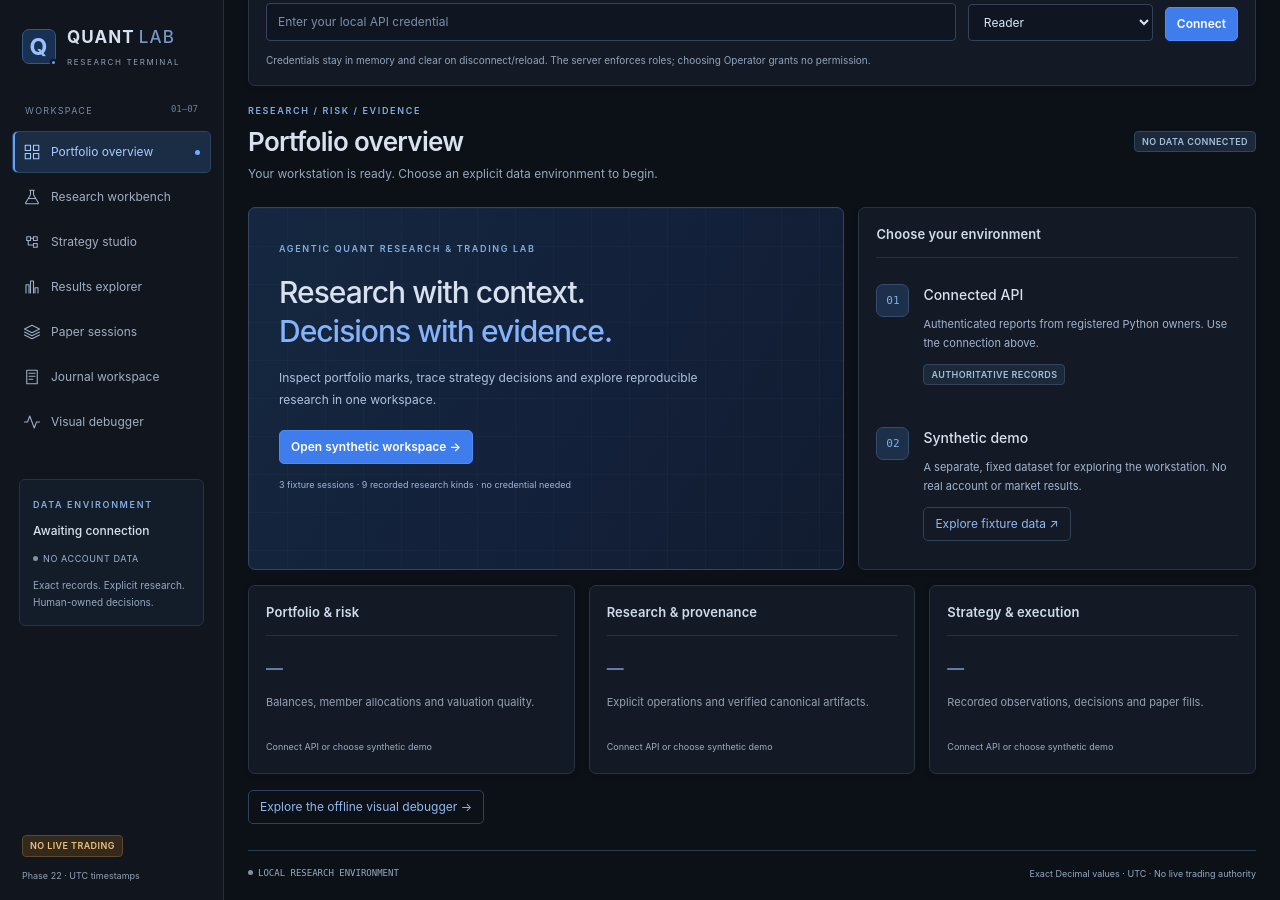
Test: authentication and accessible navigation › allows the offline demo without a credential and labels it
(page scrolled)
Click the button "Explore the offline visual debugger →": (366, 807) top-left (248, 790), bottom-right (484, 824)
(page scrolled)
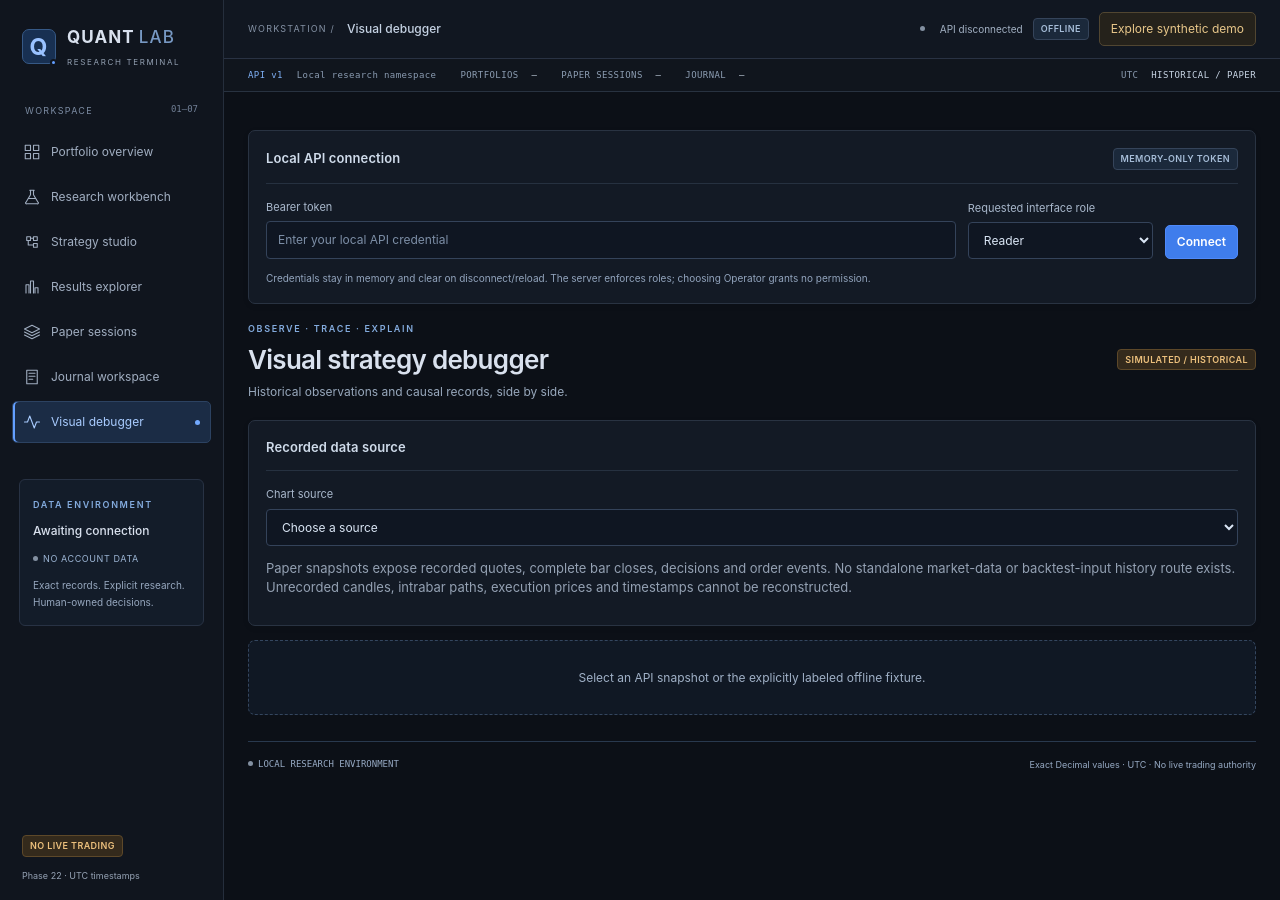
Select "OFFLINE DEMO · deterministic test-service fixture" in the dropdown labelled "Chart source": (752, 527) top-left (266, 509), bottom-right (1238, 546)
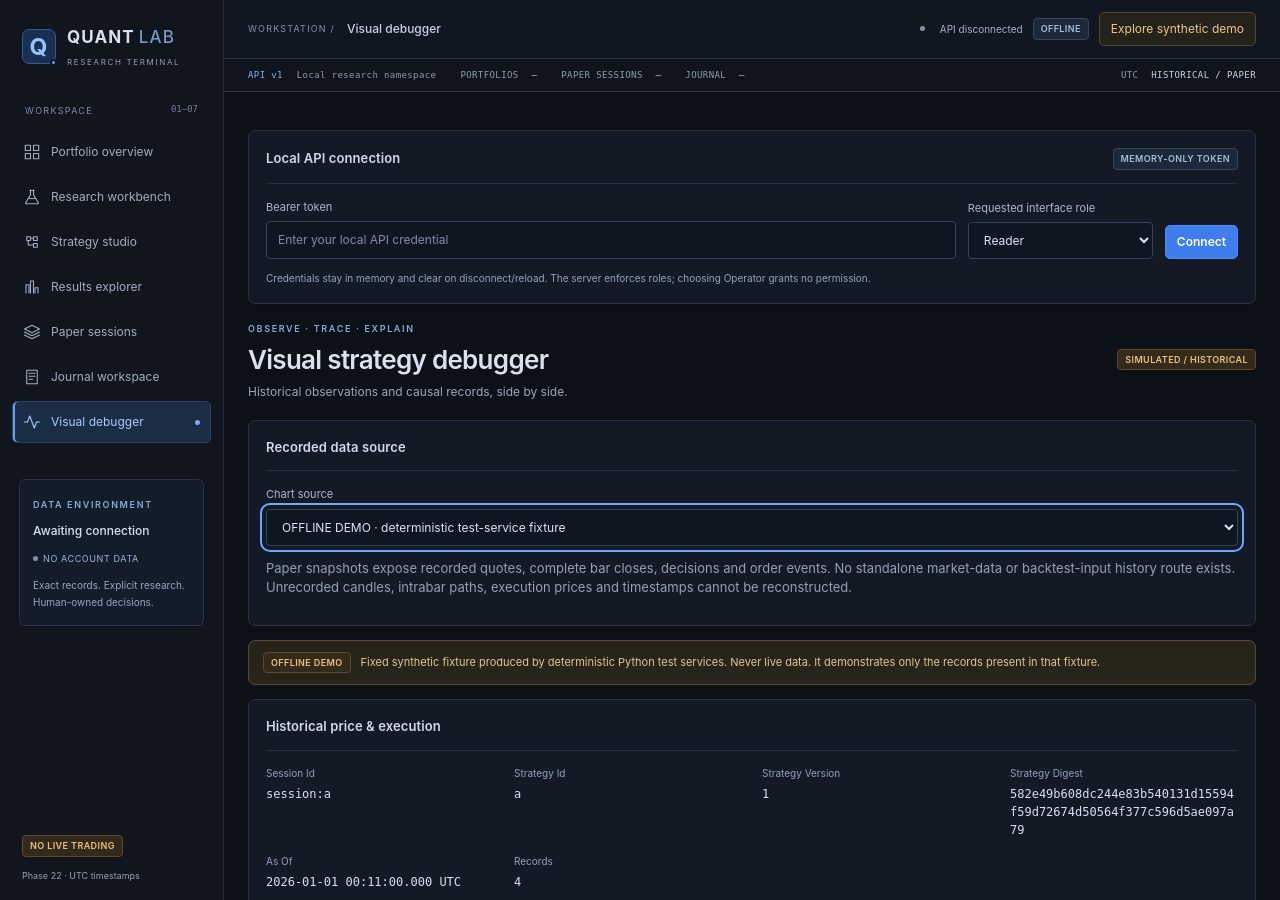
Expected: the text "OFFLINE DEMO" is shown, top-left (263, 652), bottom-right (351, 673)
Expected: the text "Fixed synthetic fixture" is shown, top-left (361, 655), bottom-right (1100, 669)
